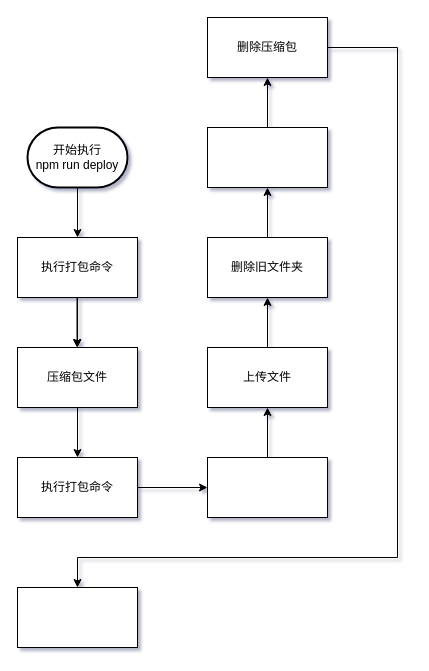
This 429x671 diagram has some shape labels left out. Here are the shapes that lost their labels. From the top down, the centre of each, then its label:
point (267, 157): 解压包文件
point (267, 487): 链接服务器
point (77, 617): 删除本地压缩包
